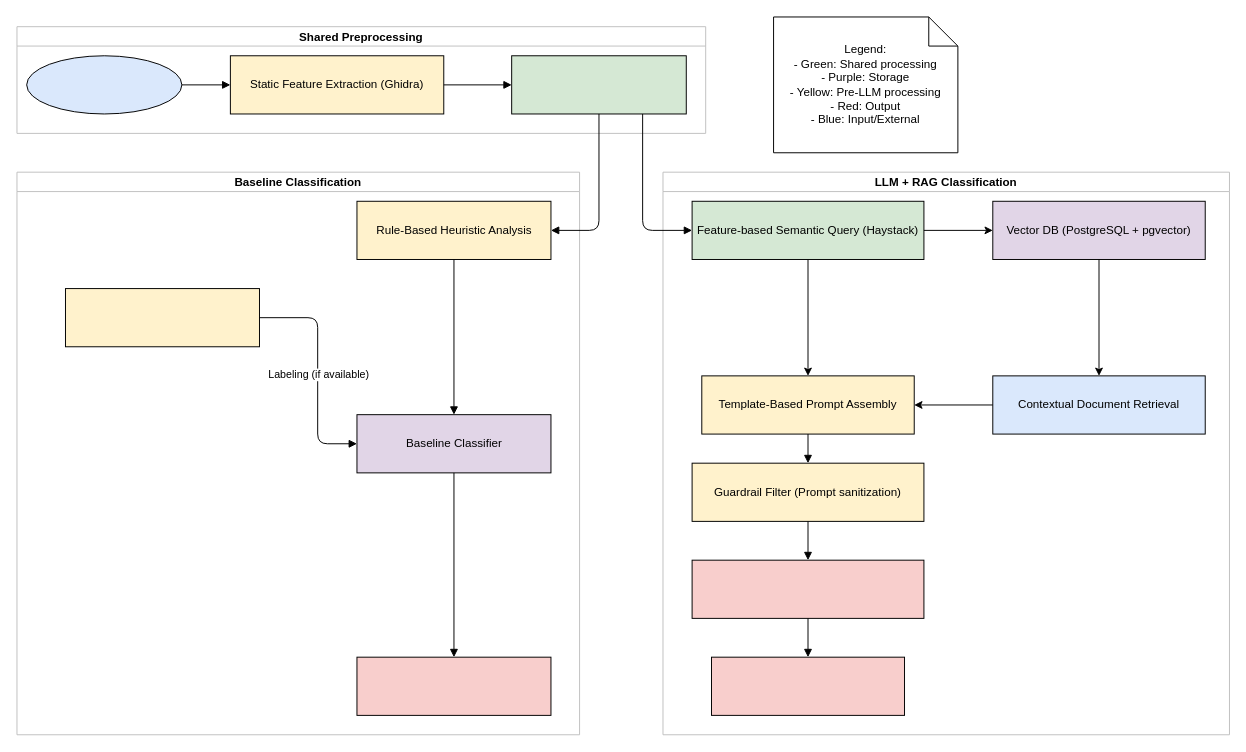
The diagram is 1246 pixels wide and 752 high, and some of its shapes have lost their labels. The centre of each missing label's shape, as x and y in pixels:
LLM Classification Output: (x=808, y=685)
LLM Inference (GPT-4o): (x=807, y=588)
Logging + Preprocessing: (x=598, y=84)
Malware Sample (PE File): (x=104, y=84)
Static Classification Output: (x=453, y=685)
VirusTotal Tag Mapping: (x=162, y=317)
